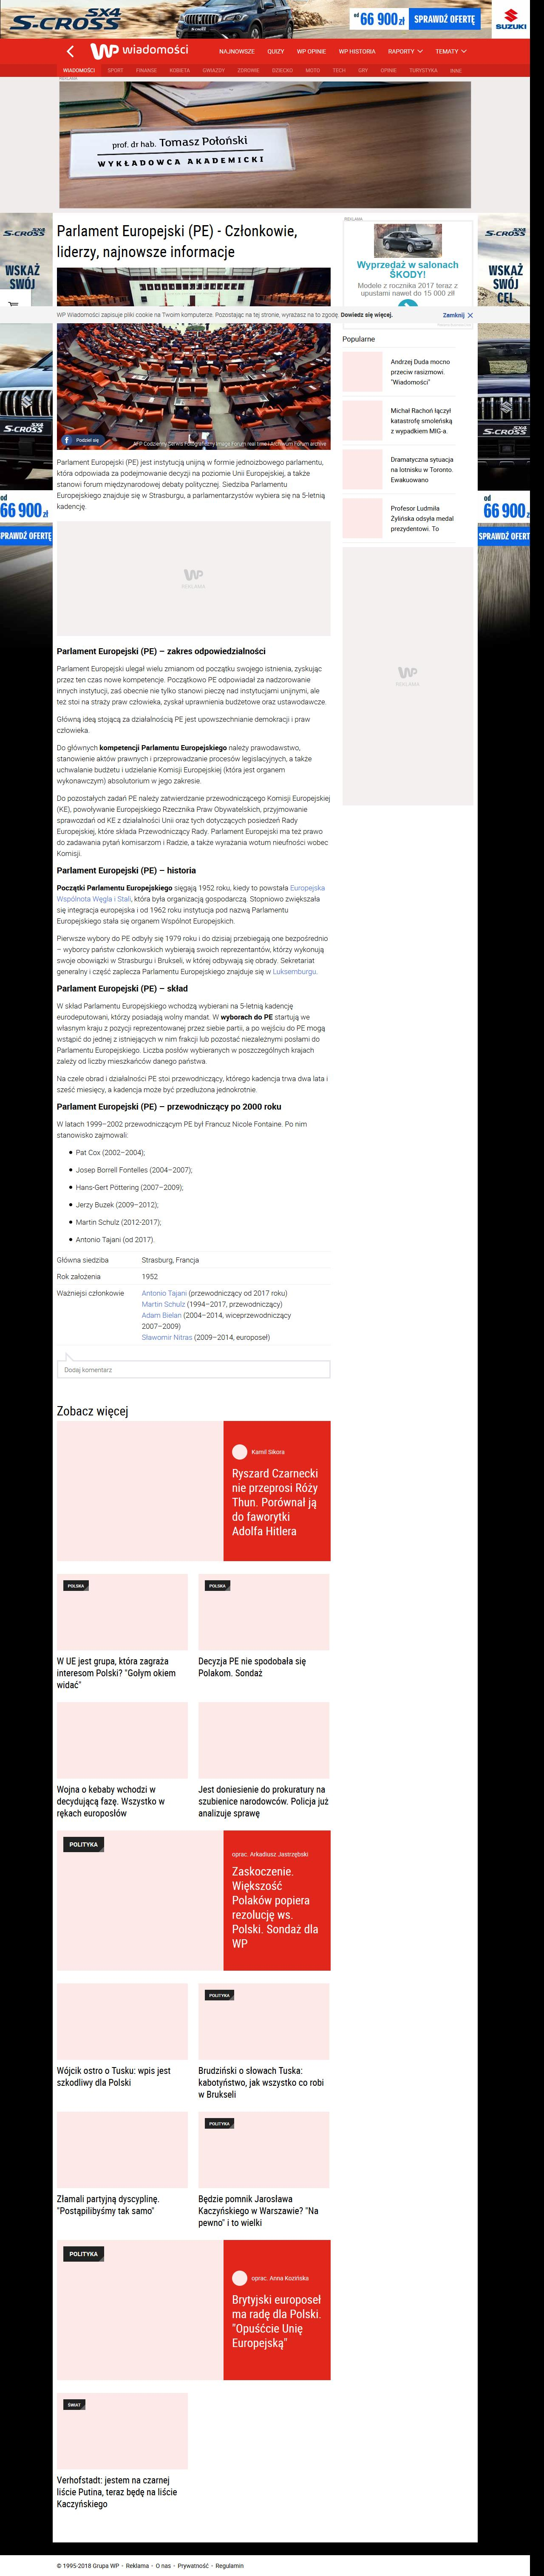title: (56, 223, 299, 261)
